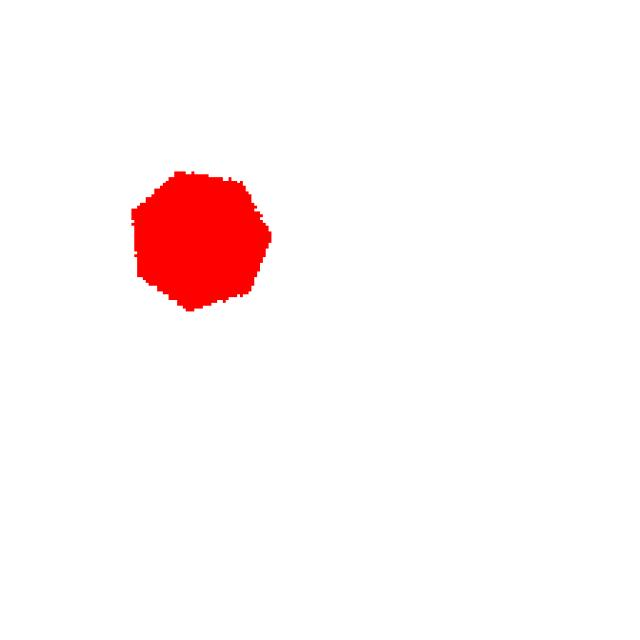Heptagon: (102, 146, 308, 321)
